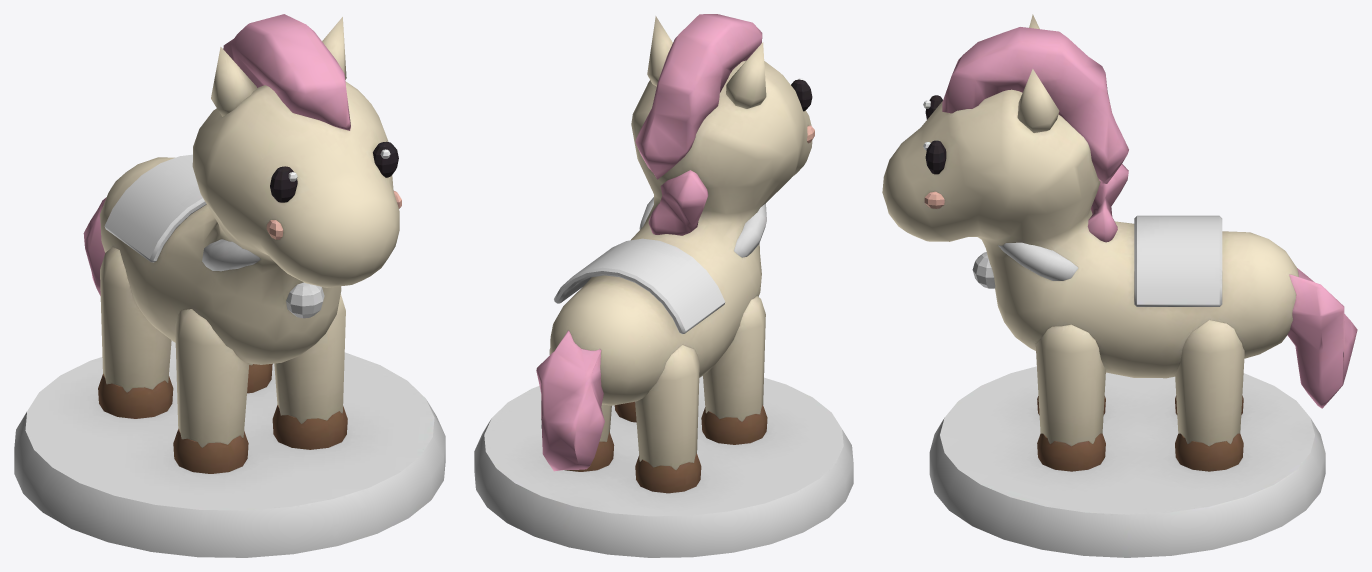
Rendered from pony.glb.
3 renders of one model, left to right at view 1: azimuth 30°, elevation 25°; view 2: azimuth 150°, elevation 25°; view 3: azimuth 270°, elevation 25°, orthographic. The views are drawn at different scales.
Parts seen in each view (by area): view 1: TeamColor_Base, Body, Mane, Leg_F_R, Leg_B_R, TeamColor_Saddle, Leg_F_L, TeamColor_Scarf, Hoof_F_R, Hoof_B_R, Hoof_F_L, Ear_R (+5 smaller); view 2: TeamColor_Base, Body, Mane, Tail, TeamColor_Saddle, Leg_B_R, Leg_F_R, Hoof_B_R, Hoof_F_R, Ear_R, TeamColor_Scarf, Ear_L (+1 smaller); view 3: TeamColor_Base, Body, Mane, TeamColor_Saddle, Leg_B_L, Leg_F_L, Tail, TeamColor_Scarf, Hoof_F_L, Hoof_B_L, Ear_L, Eye_L.
Boxes of the visible parts, bbox=[...] form: TeamColor_Base: bbox=[14, 341, 445, 557]; Body: bbox=[100, 81, 399, 364]; Mane: bbox=[223, 14, 350, 130]; Leg_F_R: bbox=[175, 309, 249, 447]; Leg_B_R: bbox=[100, 247, 171, 392]; TeamColor_Saddle: bbox=[104, 154, 206, 262]; Leg_F_L: bbox=[274, 294, 345, 423]; TeamColor_Scarf: bbox=[202, 239, 324, 318]; Hoof_F_R: bbox=[173, 428, 248, 473]; Hoof_B_R: bbox=[98, 373, 173, 418]; Hoof_F_L: bbox=[272, 405, 347, 449]; Ear_R: bbox=[211, 47, 256, 116]; TeamColor_Base: bbox=[474, 376, 853, 557]; Body: bbox=[550, 60, 812, 405]; Mane: bbox=[635, 14, 762, 235]; Tail: bbox=[536, 330, 604, 471]; TeamColor_Saddle: bbox=[554, 238, 725, 334]; Leg_B_R: bbox=[635, 345, 699, 469]; Leg_F_R: bbox=[703, 296, 765, 421]; Hoof_B_R: bbox=[635, 453, 701, 493]; Hoof_F_R: bbox=[701, 405, 767, 444]; Ear_R: bbox=[726, 42, 766, 108]; TeamColor_Scarf: bbox=[639, 197, 766, 257]; Ear_L: bbox=[647, 16, 672, 86]; TeamColor_Base: bbox=[929, 366, 1325, 557]; Body: bbox=[882, 89, 1298, 378]; Mane: bbox=[942, 27, 1128, 242]; TeamColor_Saddle: bbox=[1134, 215, 1222, 306]; Leg_B_L: bbox=[1175, 320, 1244, 446]; Leg_F_L: bbox=[1035, 324, 1105, 446]; Tail: bbox=[1287, 268, 1357, 408]; TeamColor_Scarf: bbox=[972, 242, 1078, 288]; Hoof_F_L: bbox=[1037, 433, 1105, 471]; Hoof_B_L: bbox=[1175, 433, 1243, 471]; Ear_L: bbox=[1017, 69, 1059, 132]; Eye_L: bbox=[925, 140, 946, 174].
Size of the model in its own units: 0.046 by 0.0564 by 0.0552.
1 material, 1 textured.
